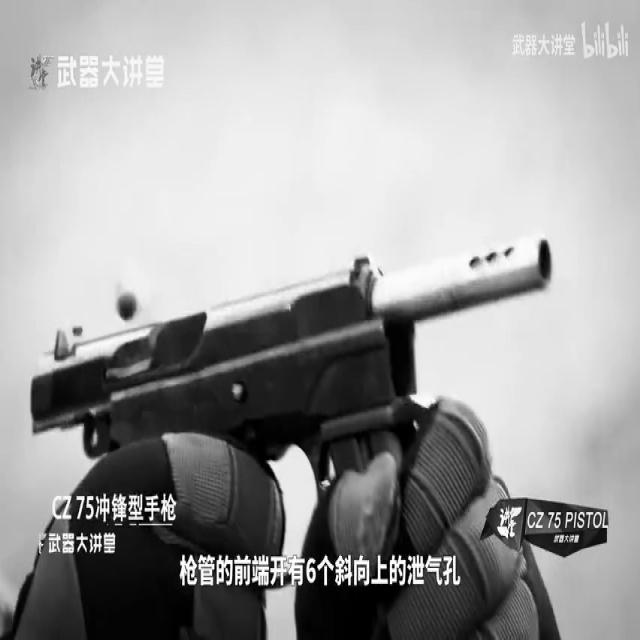Hand-Gun: (33, 167, 622, 640)
